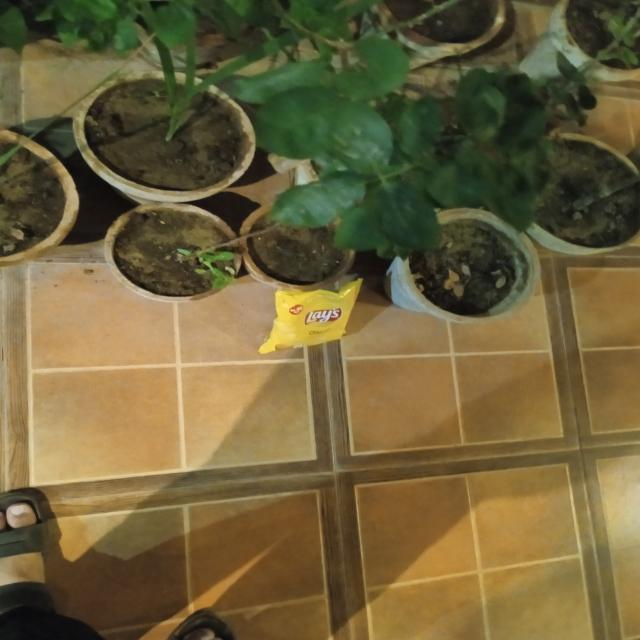Plastic: (264, 281, 360, 357)
